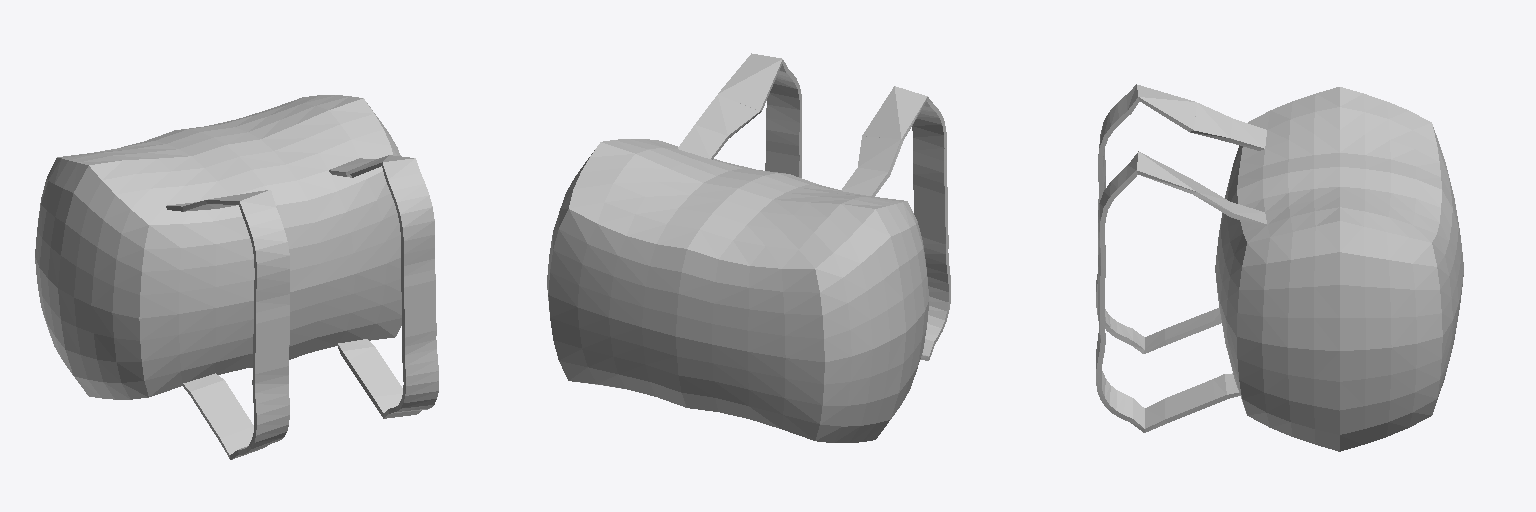
The model's file is backpack_0_thick.obj.
The picture shows the model from 3 angles: view 1: azimuth 30°, elevation 25°; view 2: azimuth 150°, elevation 25°; view 3: azimuth 270°, elevation 25°; orthographic projection.
Parts seen in each view (by area): view 1: backpack_0.004; view 2: backpack_0.004; view 3: backpack_0.004.
Part boxes in pixels (x1,y1,x2,y2): backpack_0.004: (35, 95, 438, 459); backpack_0.004: (547, 53, 950, 442); backpack_0.004: (1096, 84, 1463, 451).
Size of the model in its own units: 0.7588 by 0.5686 by 0.7199.